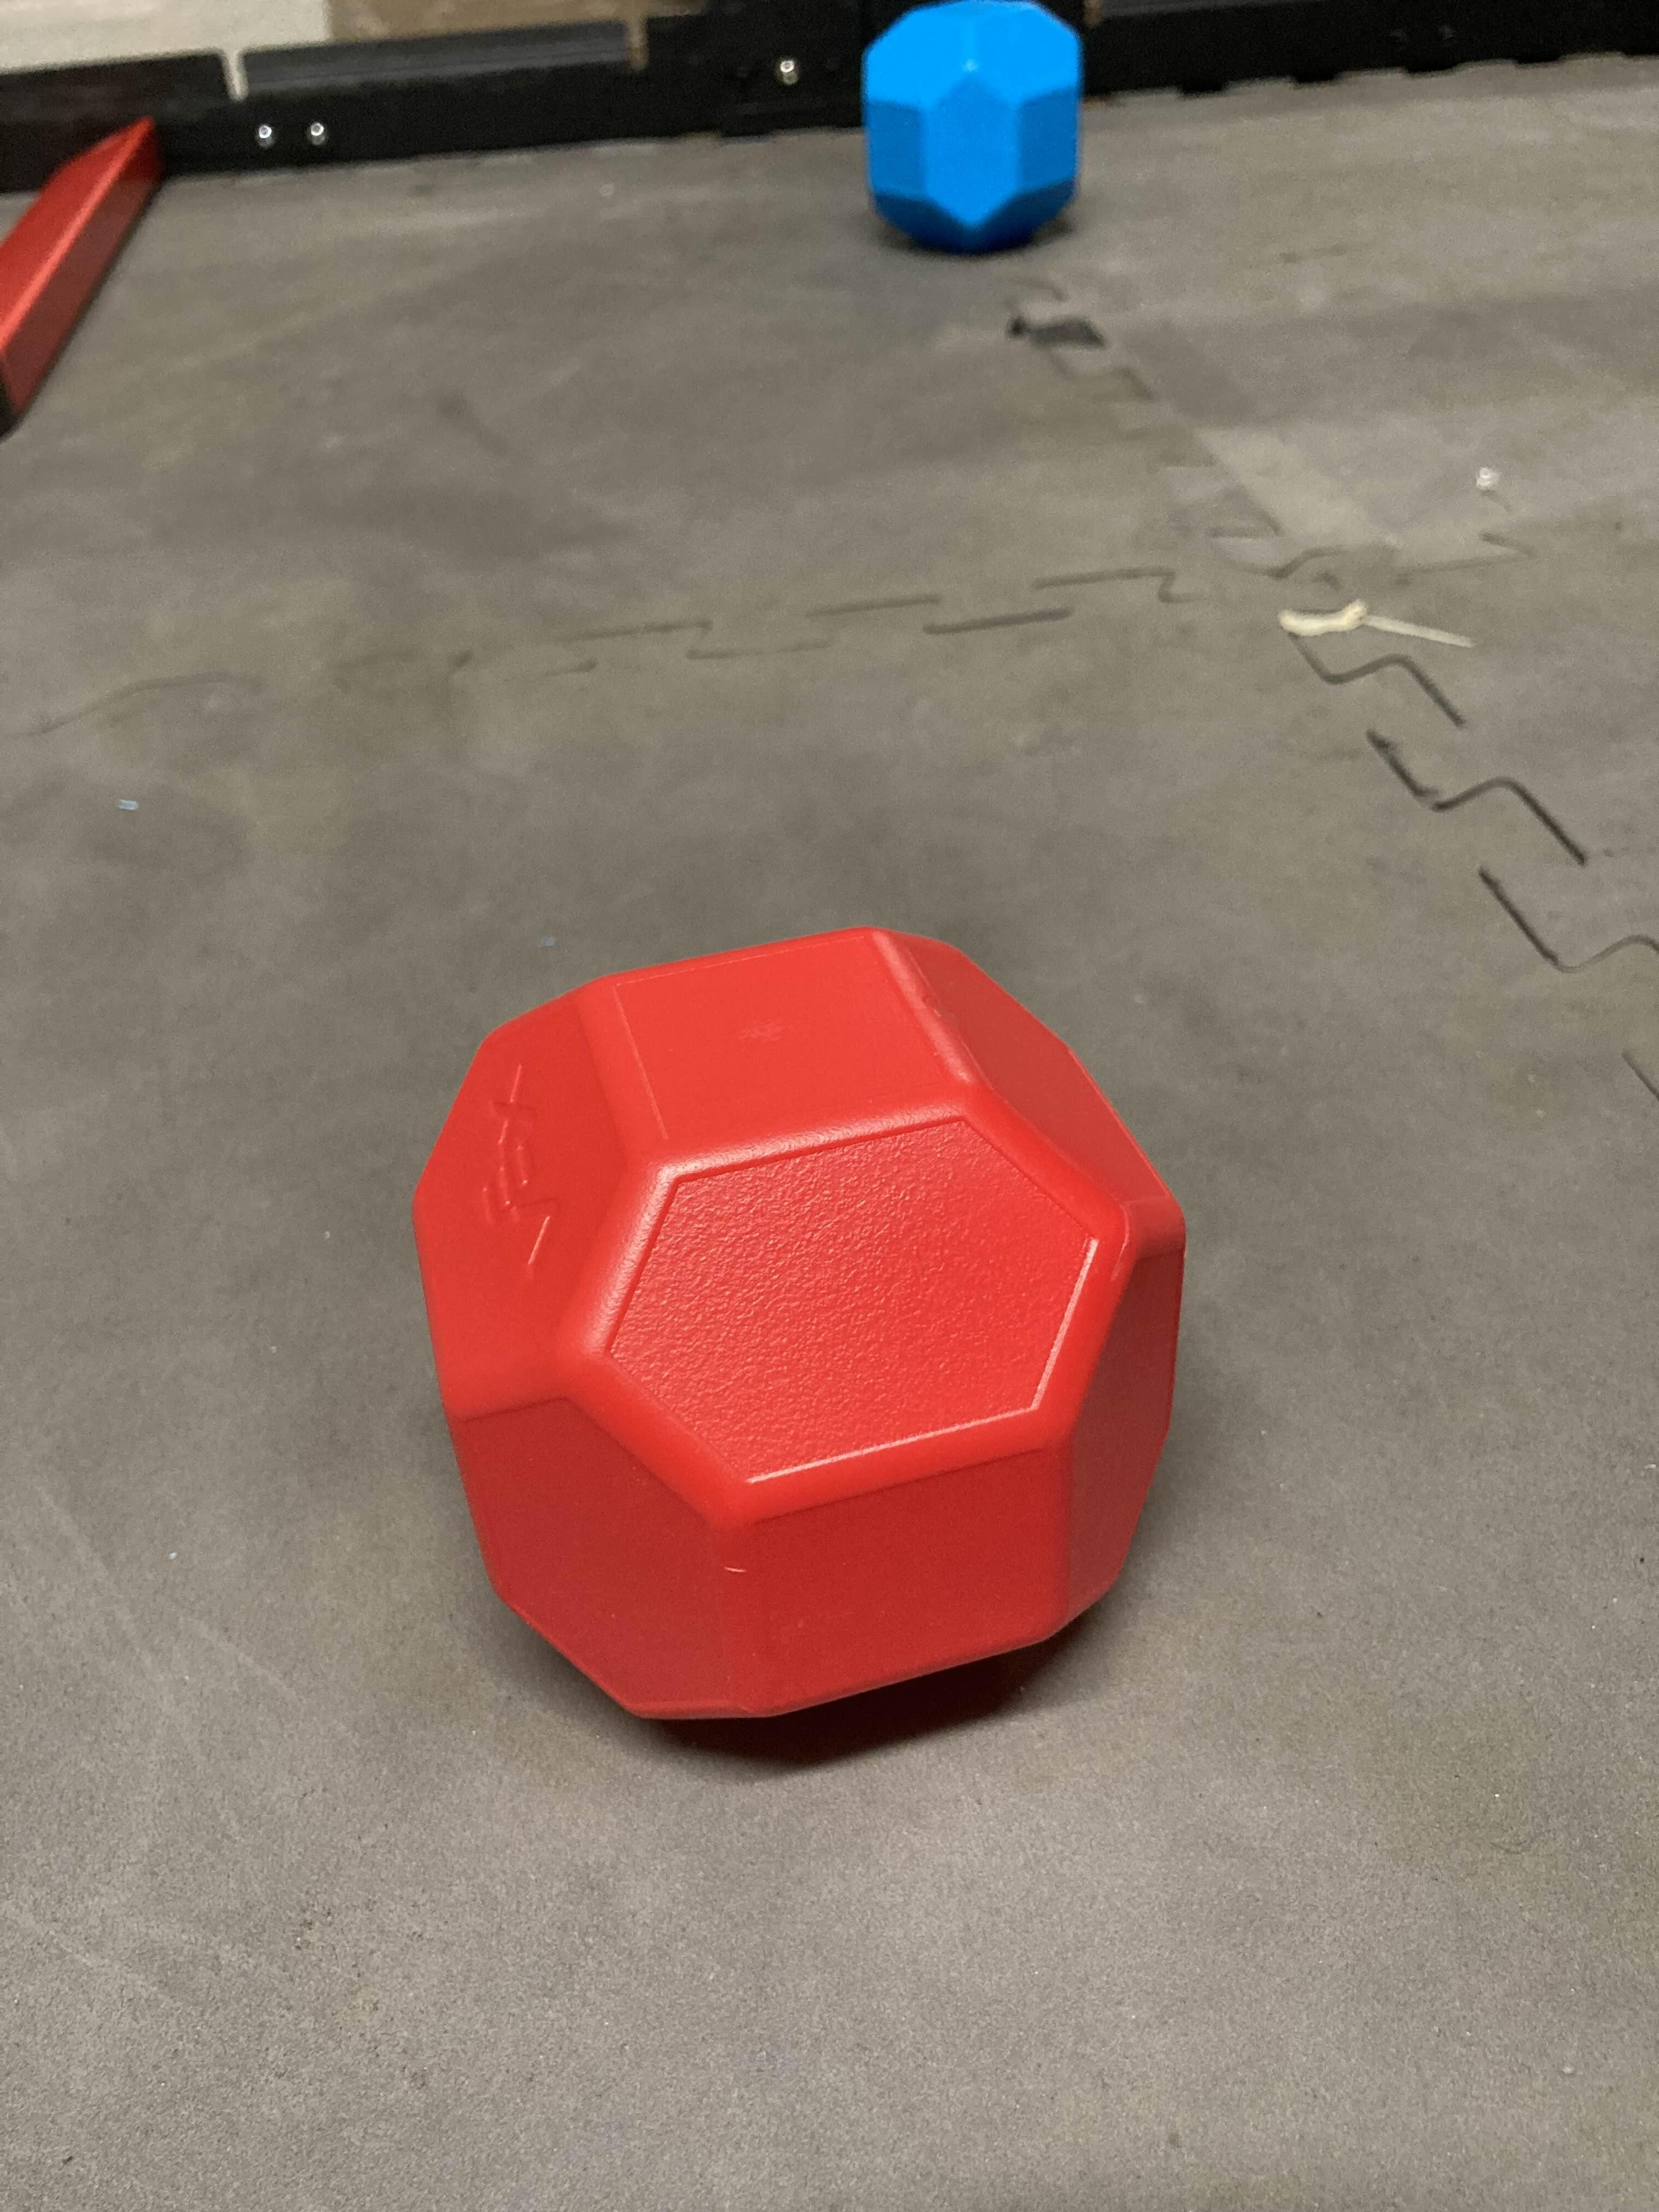Vex-Pieces-BLUE: (859, 0, 1087, 261)
Vex-Pieces-RED: (411, 932, 1188, 1740)
